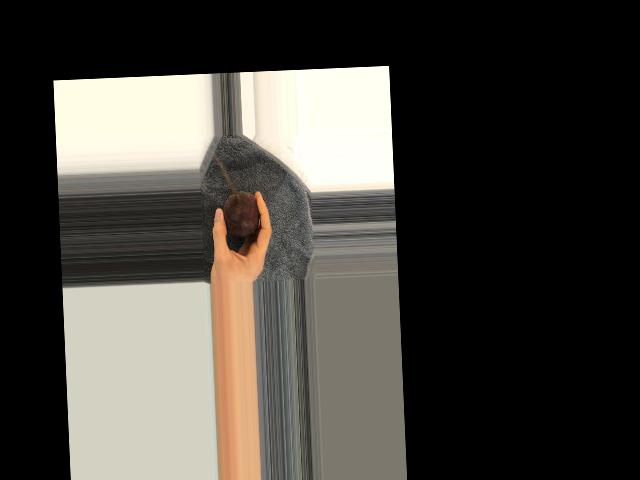beet: (222, 190, 260, 238)
